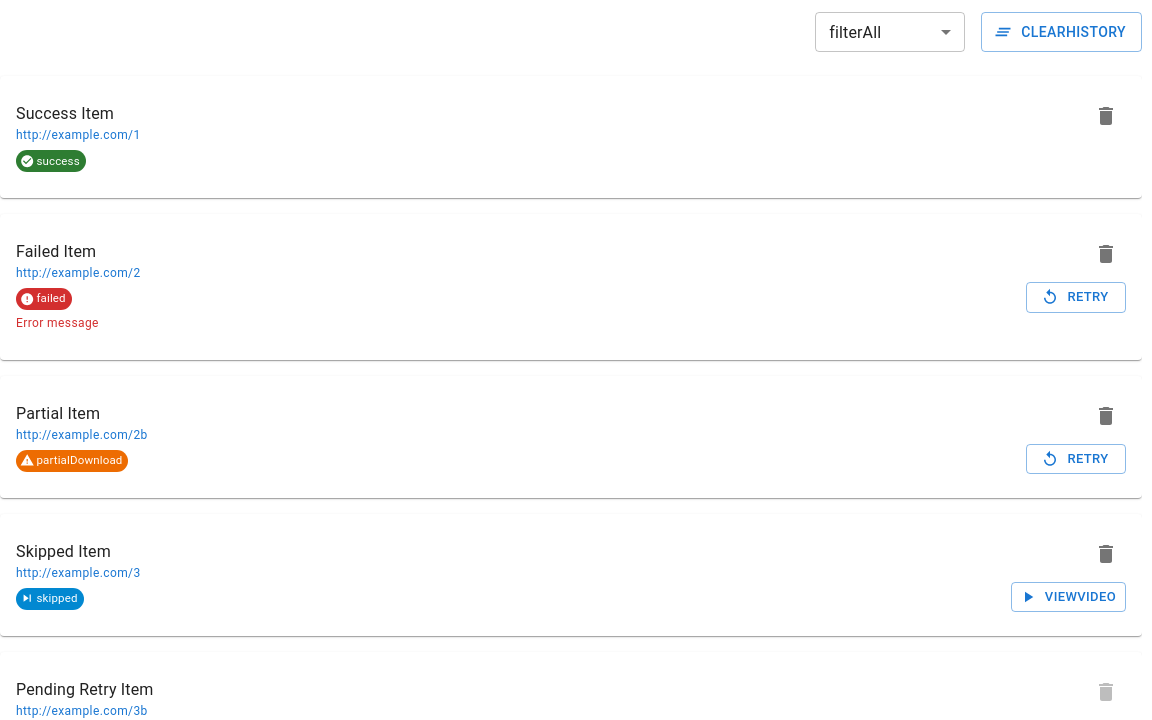
Test case: HistoryTab Filter › filters partial items
Press the mouse on the dropdown: (855, 32) top-left (829, 22), bottom-right (881, 42)
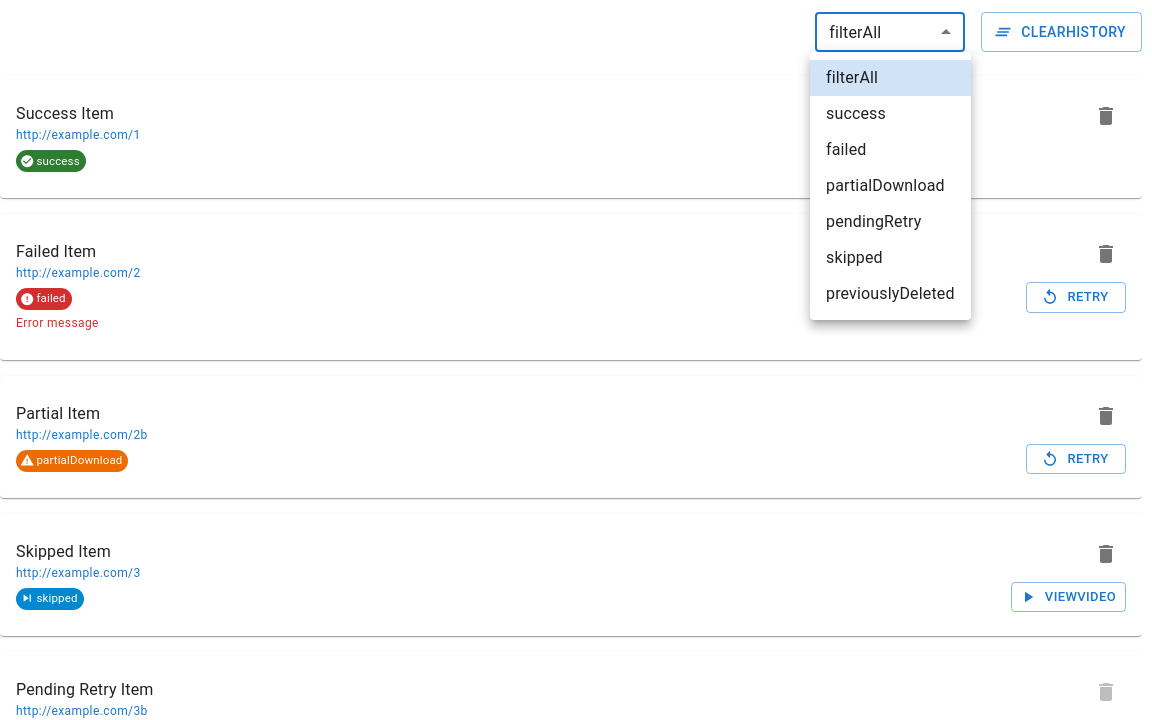
Click the option "partialDownload": (885, 186) top-left (826, 176), bottom-right (945, 195)
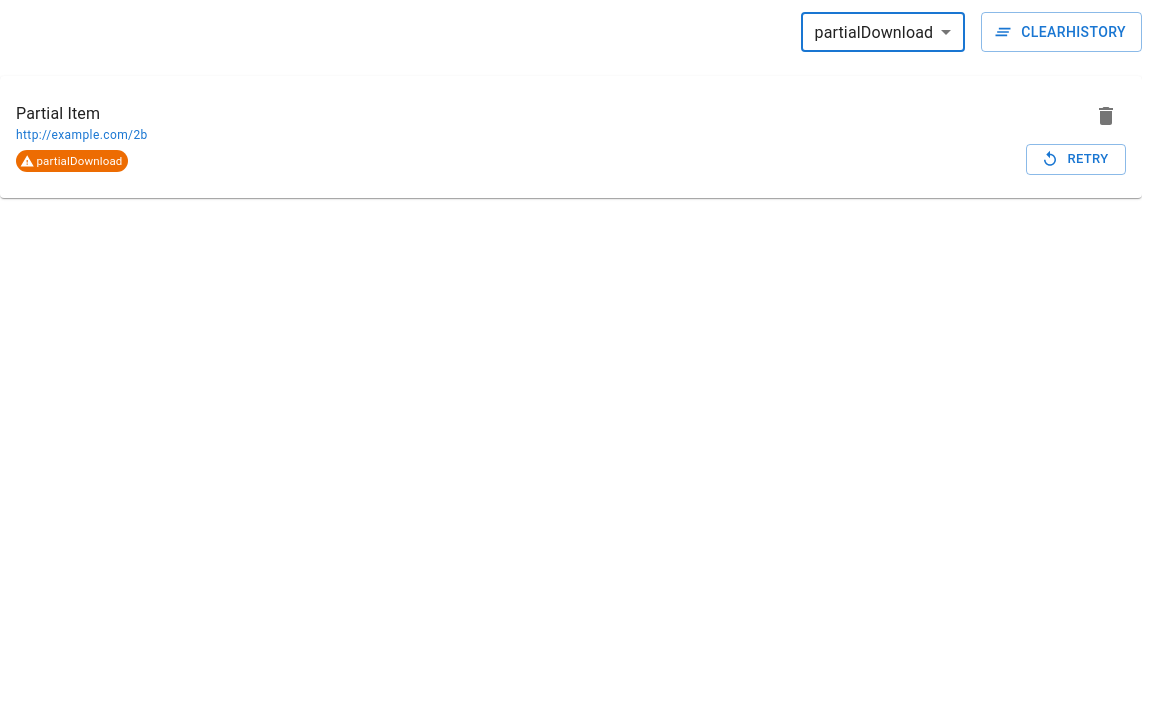
Check: the text "Success Item" is gone
Check: the text "Failed Item" is gone
Check: the text "Skipped Item" is gone
